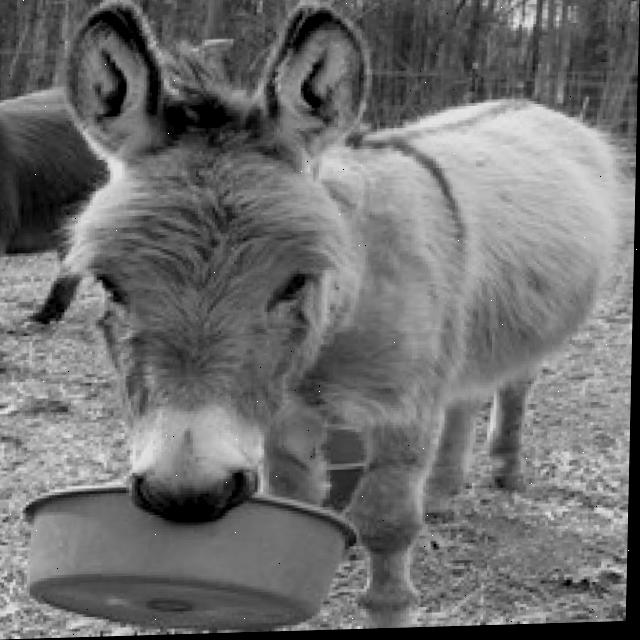Donkey: (38, 0, 637, 635), (0, 80, 112, 360)
